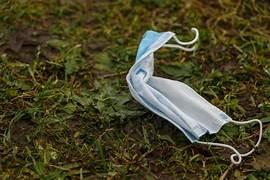Mask: (126, 28, 261, 163)
